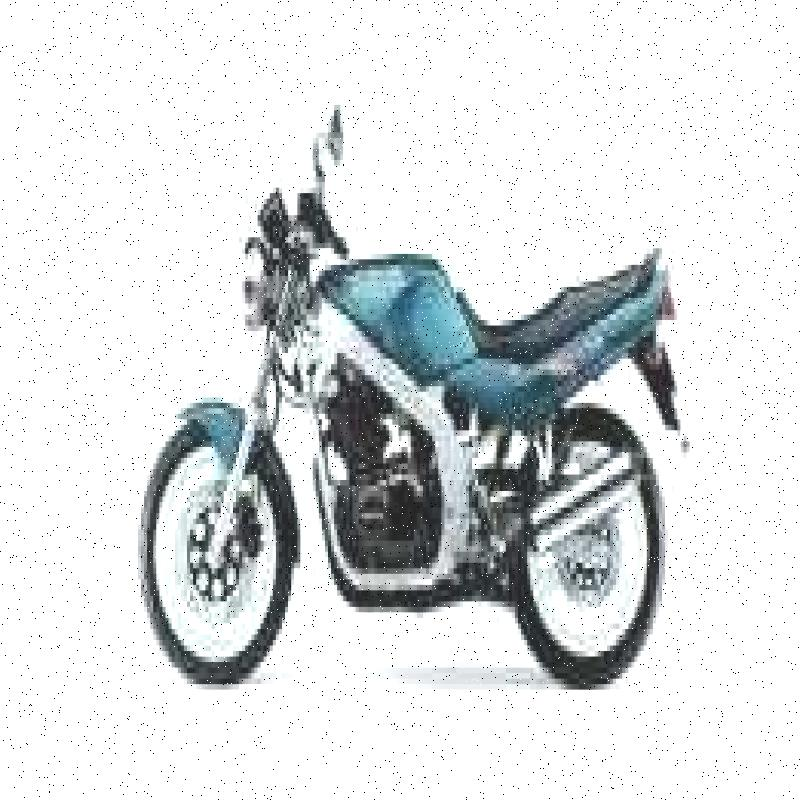bike: (134, 93, 692, 690)
